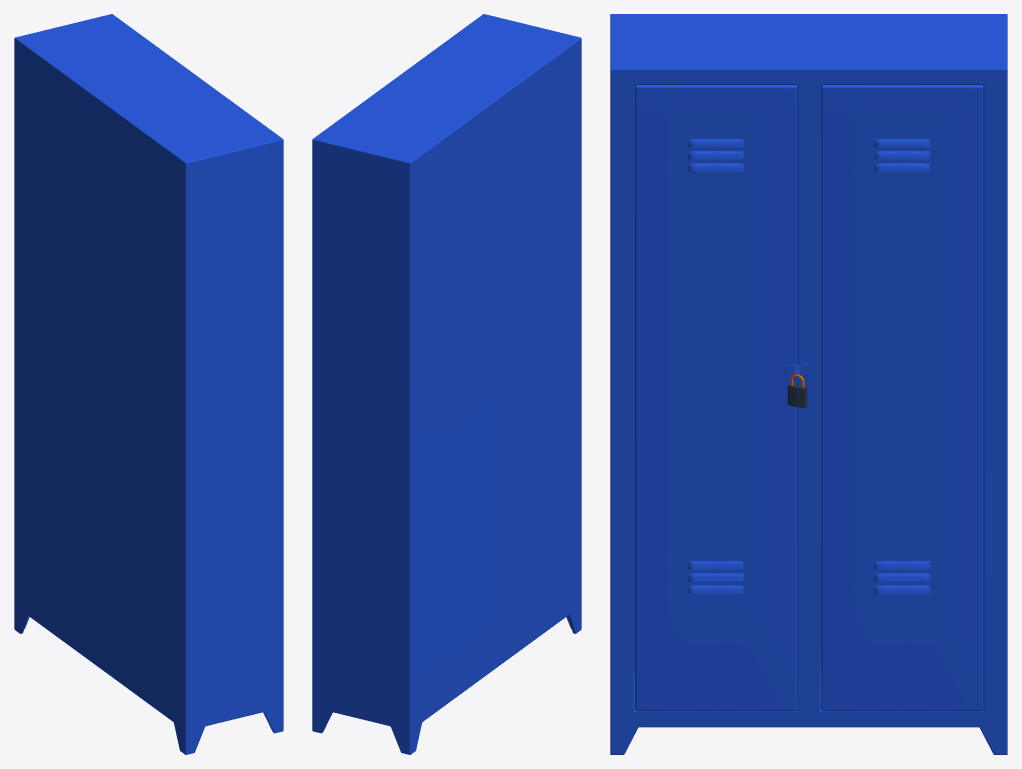
The model's file is uploads_files_887512_locker.fbx.
The picture shows the model from 3 angles, left to right: view 1: azimuth 30°, elevation 25°; view 2: azimuth 150°, elevation 25°; view 3: azimuth 270°, elevation 25°; orthographic projection. The views are drawn at different scales.
Visible parts, largest first — view 1: cadena:locker_body; view 2: cadena:locker_body; view 3: door2, door1, cadena:locker_body.
Part boxes in pixels (<box>): cadena:locker_body: <box>14,14,283,754</box>; cadena:locker_body: <box>312,14,581,754</box>; door2: <box>821,85,983,711</box>; door1: <box>635,85,797,711</box>; cadena:locker_body: <box>610,14,1007,754</box>.
Size of the model in its own units: 75.95 by 375 by 197.
